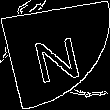N_N: (26, 27, 84, 83)
